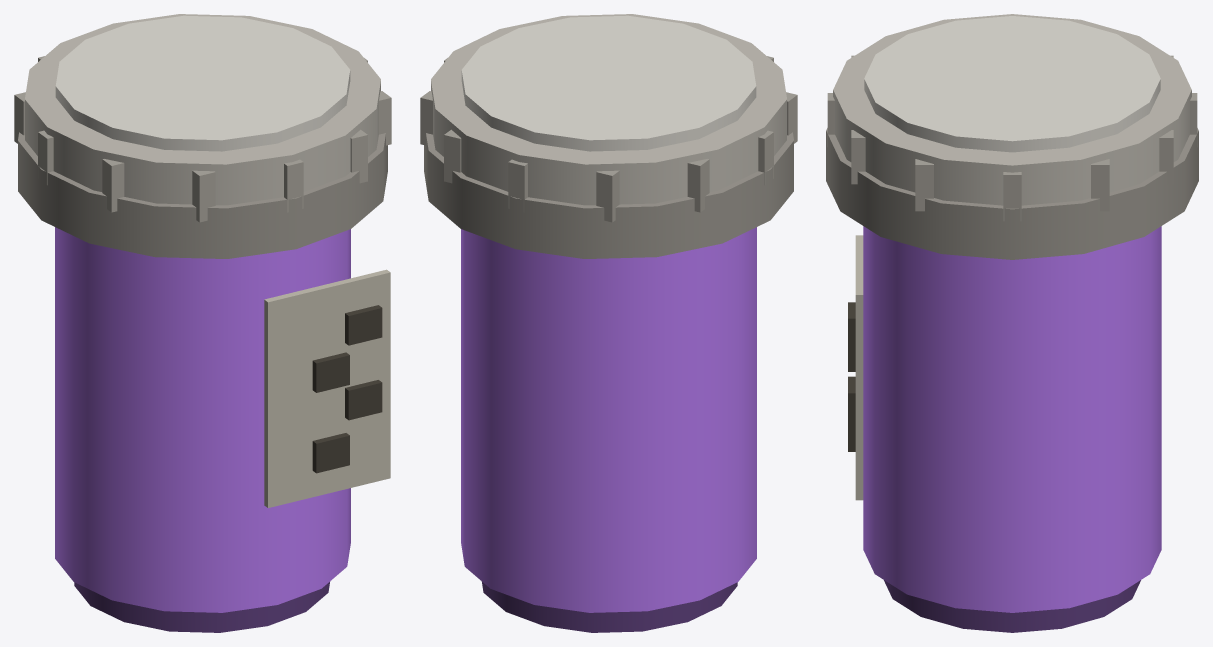
The model's file is CMU3DCMPillCanisterInaprovaline.glb.
3 renders of one model, left to right at view 1: azimuth 30°, elevation 25°; view 2: azimuth 150°, elevation 25°; view 3: azimuth 270°, elevation 25°, orthographic.
Visible parts, largest first — view 1: colored bottle body, cap top inset, small medicine label, closed pale screw cap, cap rim, source label ink (×4), cap grip rib (×6), bottle lower bevel; view 2: colored bottle body, cap top inset, closed pale screw cap, cap rim, cap grip rib (×6), bottle lower bevel; view 3: colored bottle body, cap top inset, closed pale screw cap, cap rim, bottle lower bevel, cap grip rib (×5), small medicine label.
Part boxes in pixels (left/top/right/bottom): colored bottle body: left=55, top=227, right=350, bottom=612; cap top inset: left=55, top=15, right=350, bottom=151; small medicine label: left=264, top=269, right=390, bottom=507; closed pale screw cap: left=25, top=14, right=380, bottom=205; cap rim: left=18, top=132, right=387, bottom=258; source label ink (×4): left=312, top=305, right=382, bottom=473; cap grip rib (×6): left=38, top=91, right=391, bottom=222; bottle lower bevel: left=74, top=581, right=330, bottom=632; colored bottle body: left=461, top=227, right=756, bottom=612; cap top inset: left=461, top=15, right=756, bottom=151; closed pale screw cap: left=431, top=14, right=786, bottom=205; cap rim: left=424, top=132, right=793, bottom=258; cap grip rib (×6): left=420, top=91, right=773, bottom=222; bottle lower bevel: left=481, top=581, right=737, bottom=632; colored bottle body: left=863, top=226, right=1161, bottom=612; cap top inset: left=864, top=16, right=1160, bottom=152; closed pale screw cap: left=833, top=14, right=1191, bottom=205; cap rim: left=826, top=128, right=1198, bottom=259; bottle lower bevel: left=884, top=580, right=1140, bottom=632; cap grip rib (×5): left=851, top=130, right=1173, bottom=221; small medicine label: left=855, top=235, right=863, bottom=500.
Size of the model in its own units: 0.24 by 0.355 by 0.24.
